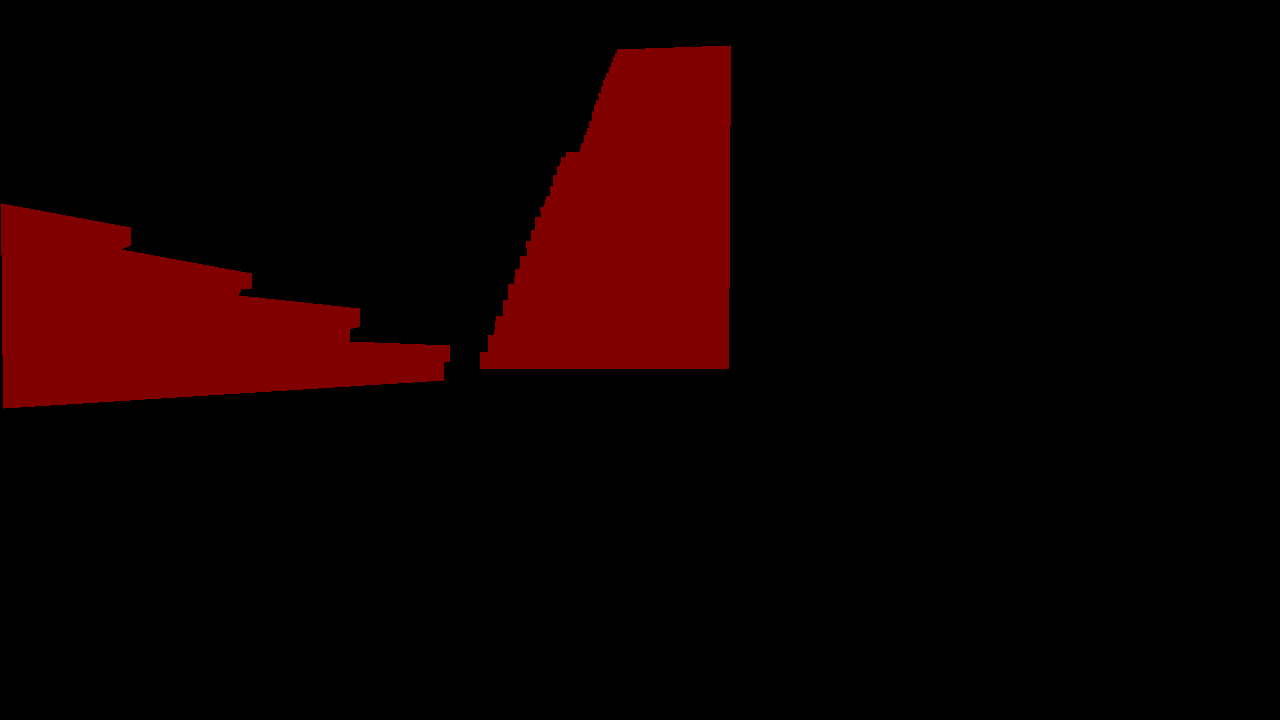stair: (37, 214, 449, 403), (479, 56, 727, 369)
